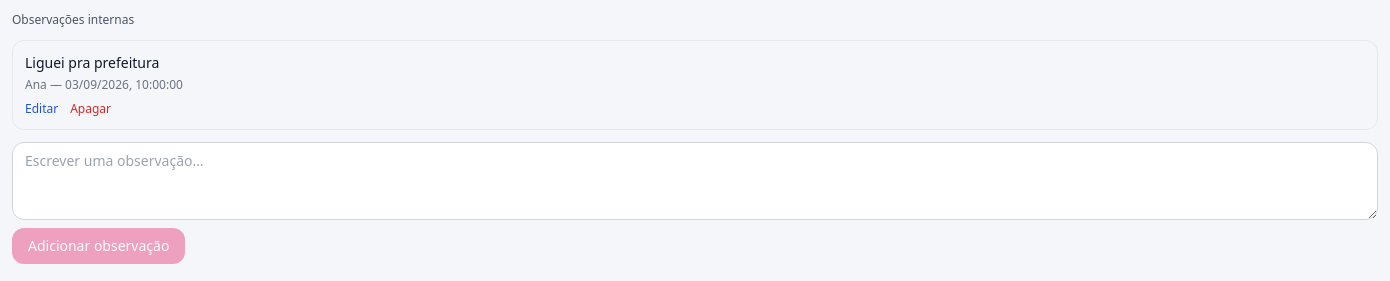
Test: ObservacoesInternas › apaga a própria nota depois de confirmar
The width and height of the screenshot is (1390, 281).
Expected: the text "Liguei pra prefeitura" is shown, [25,53,159,72]
Click the button "Apagar".
click(91, 109)  # box [70,101,111,117]
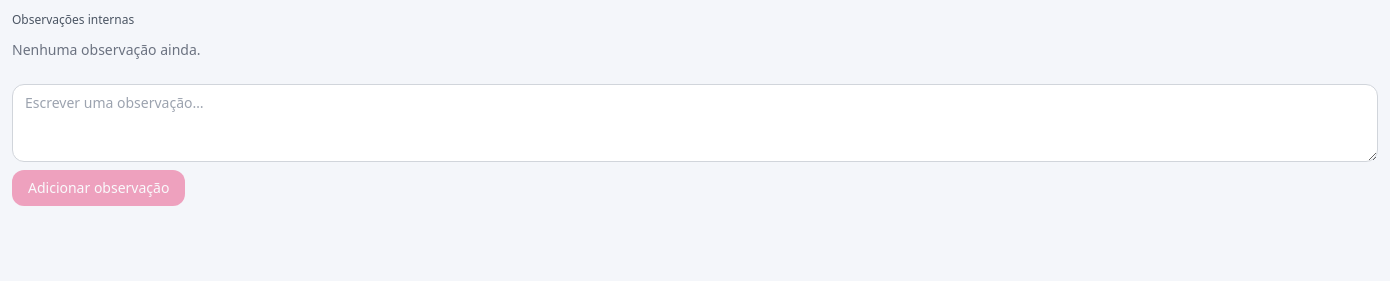
Now the text "Liguei pra prefeitura" is gone
